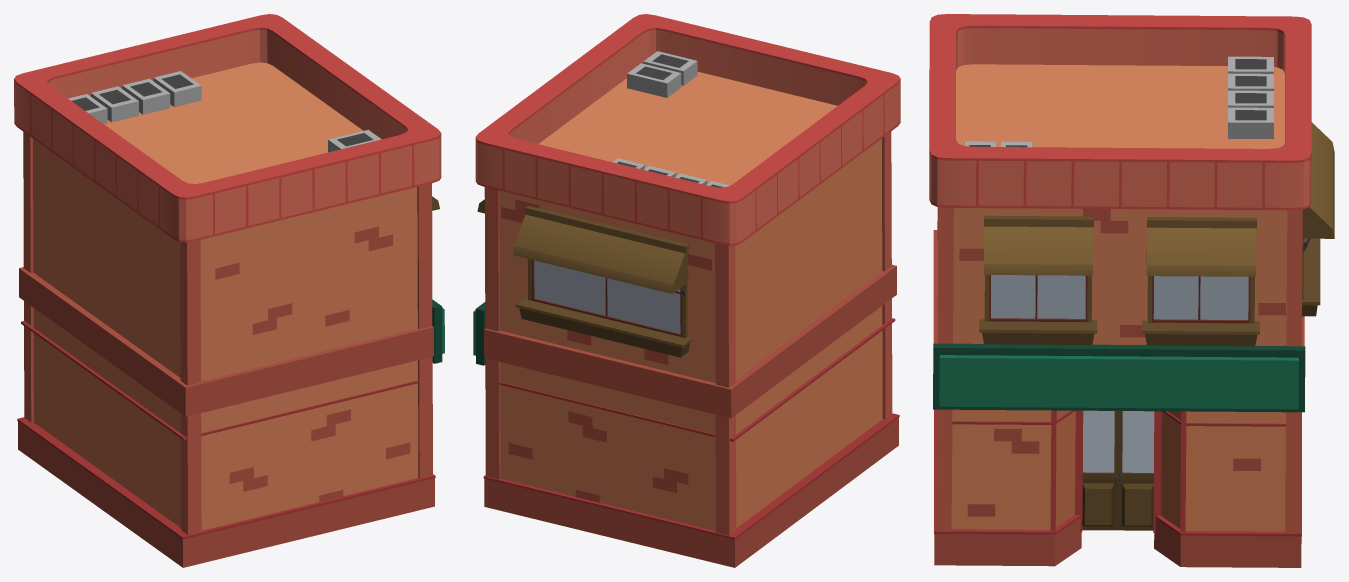
Rendered from building03.FBX.
The picture shows the model from 3 angles, left to right: view 1: azimuth 30°, elevation 25°; view 2: azimuth 150°, elevation 25°; view 3: azimuth 270°, elevation 25°; orthographic projection. The views are drawn at different scales.
Parts seen in each view (by area): view 1: building03; view 2: building03; view 3: building03.
Part boxes in pixels (x1,y1,x2,y2): building03: (14, 14, 444, 567); building03: (473, 14, 900, 567); building03: (929, 14, 1334, 567).
Bounding box in the file's own units: 375 × 471 × 416.
